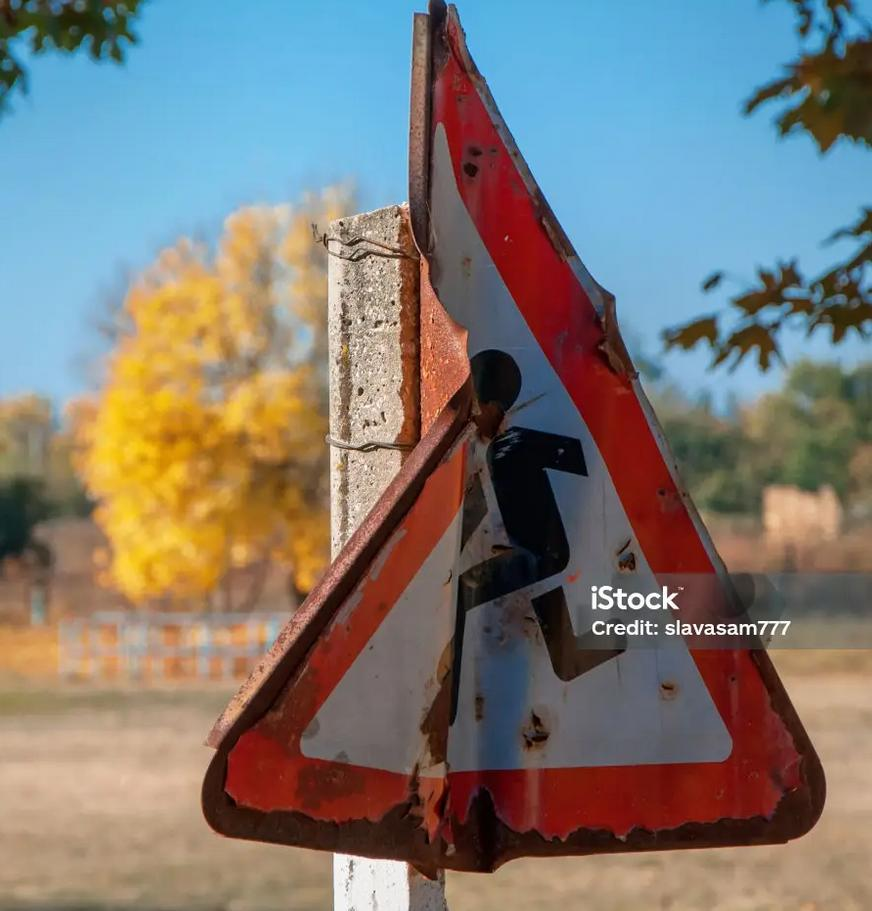obstructed_road_sign: (194, 3, 832, 877)
